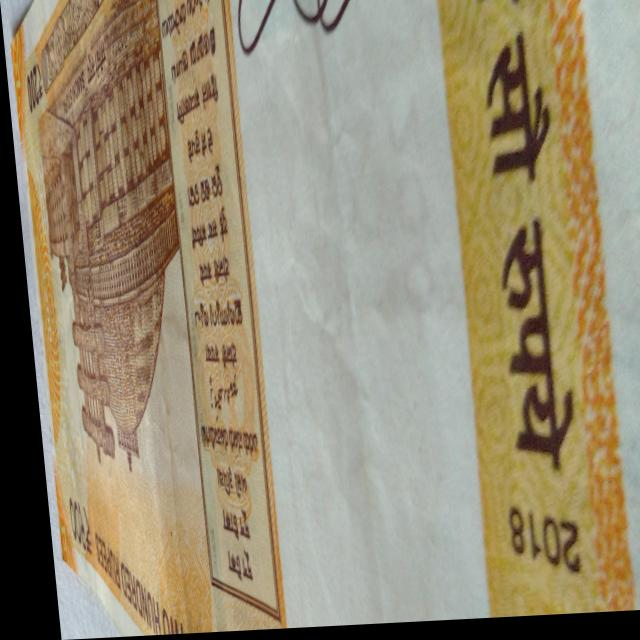Currency: (1, 0, 640, 640)
